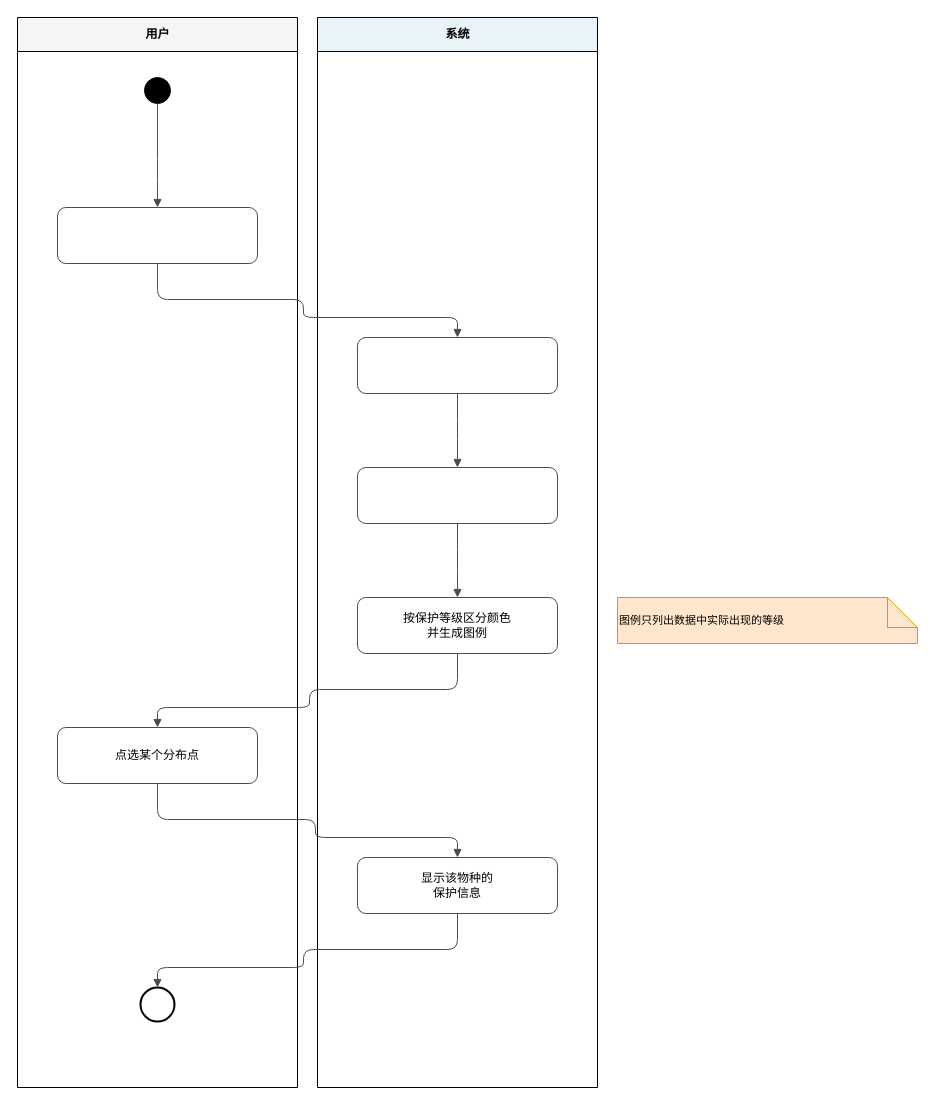
The diagram is 935 pixels wide and 1105 high, and some of its shapes have lost their labels. The centre of each missing label's shape, as x and y in pixels:
"取出已公开且 登记位置的物种" goes at [457,495].
"显示地图底图" goes at [457,365].
"进入 分布地图" goes at [157,235].
